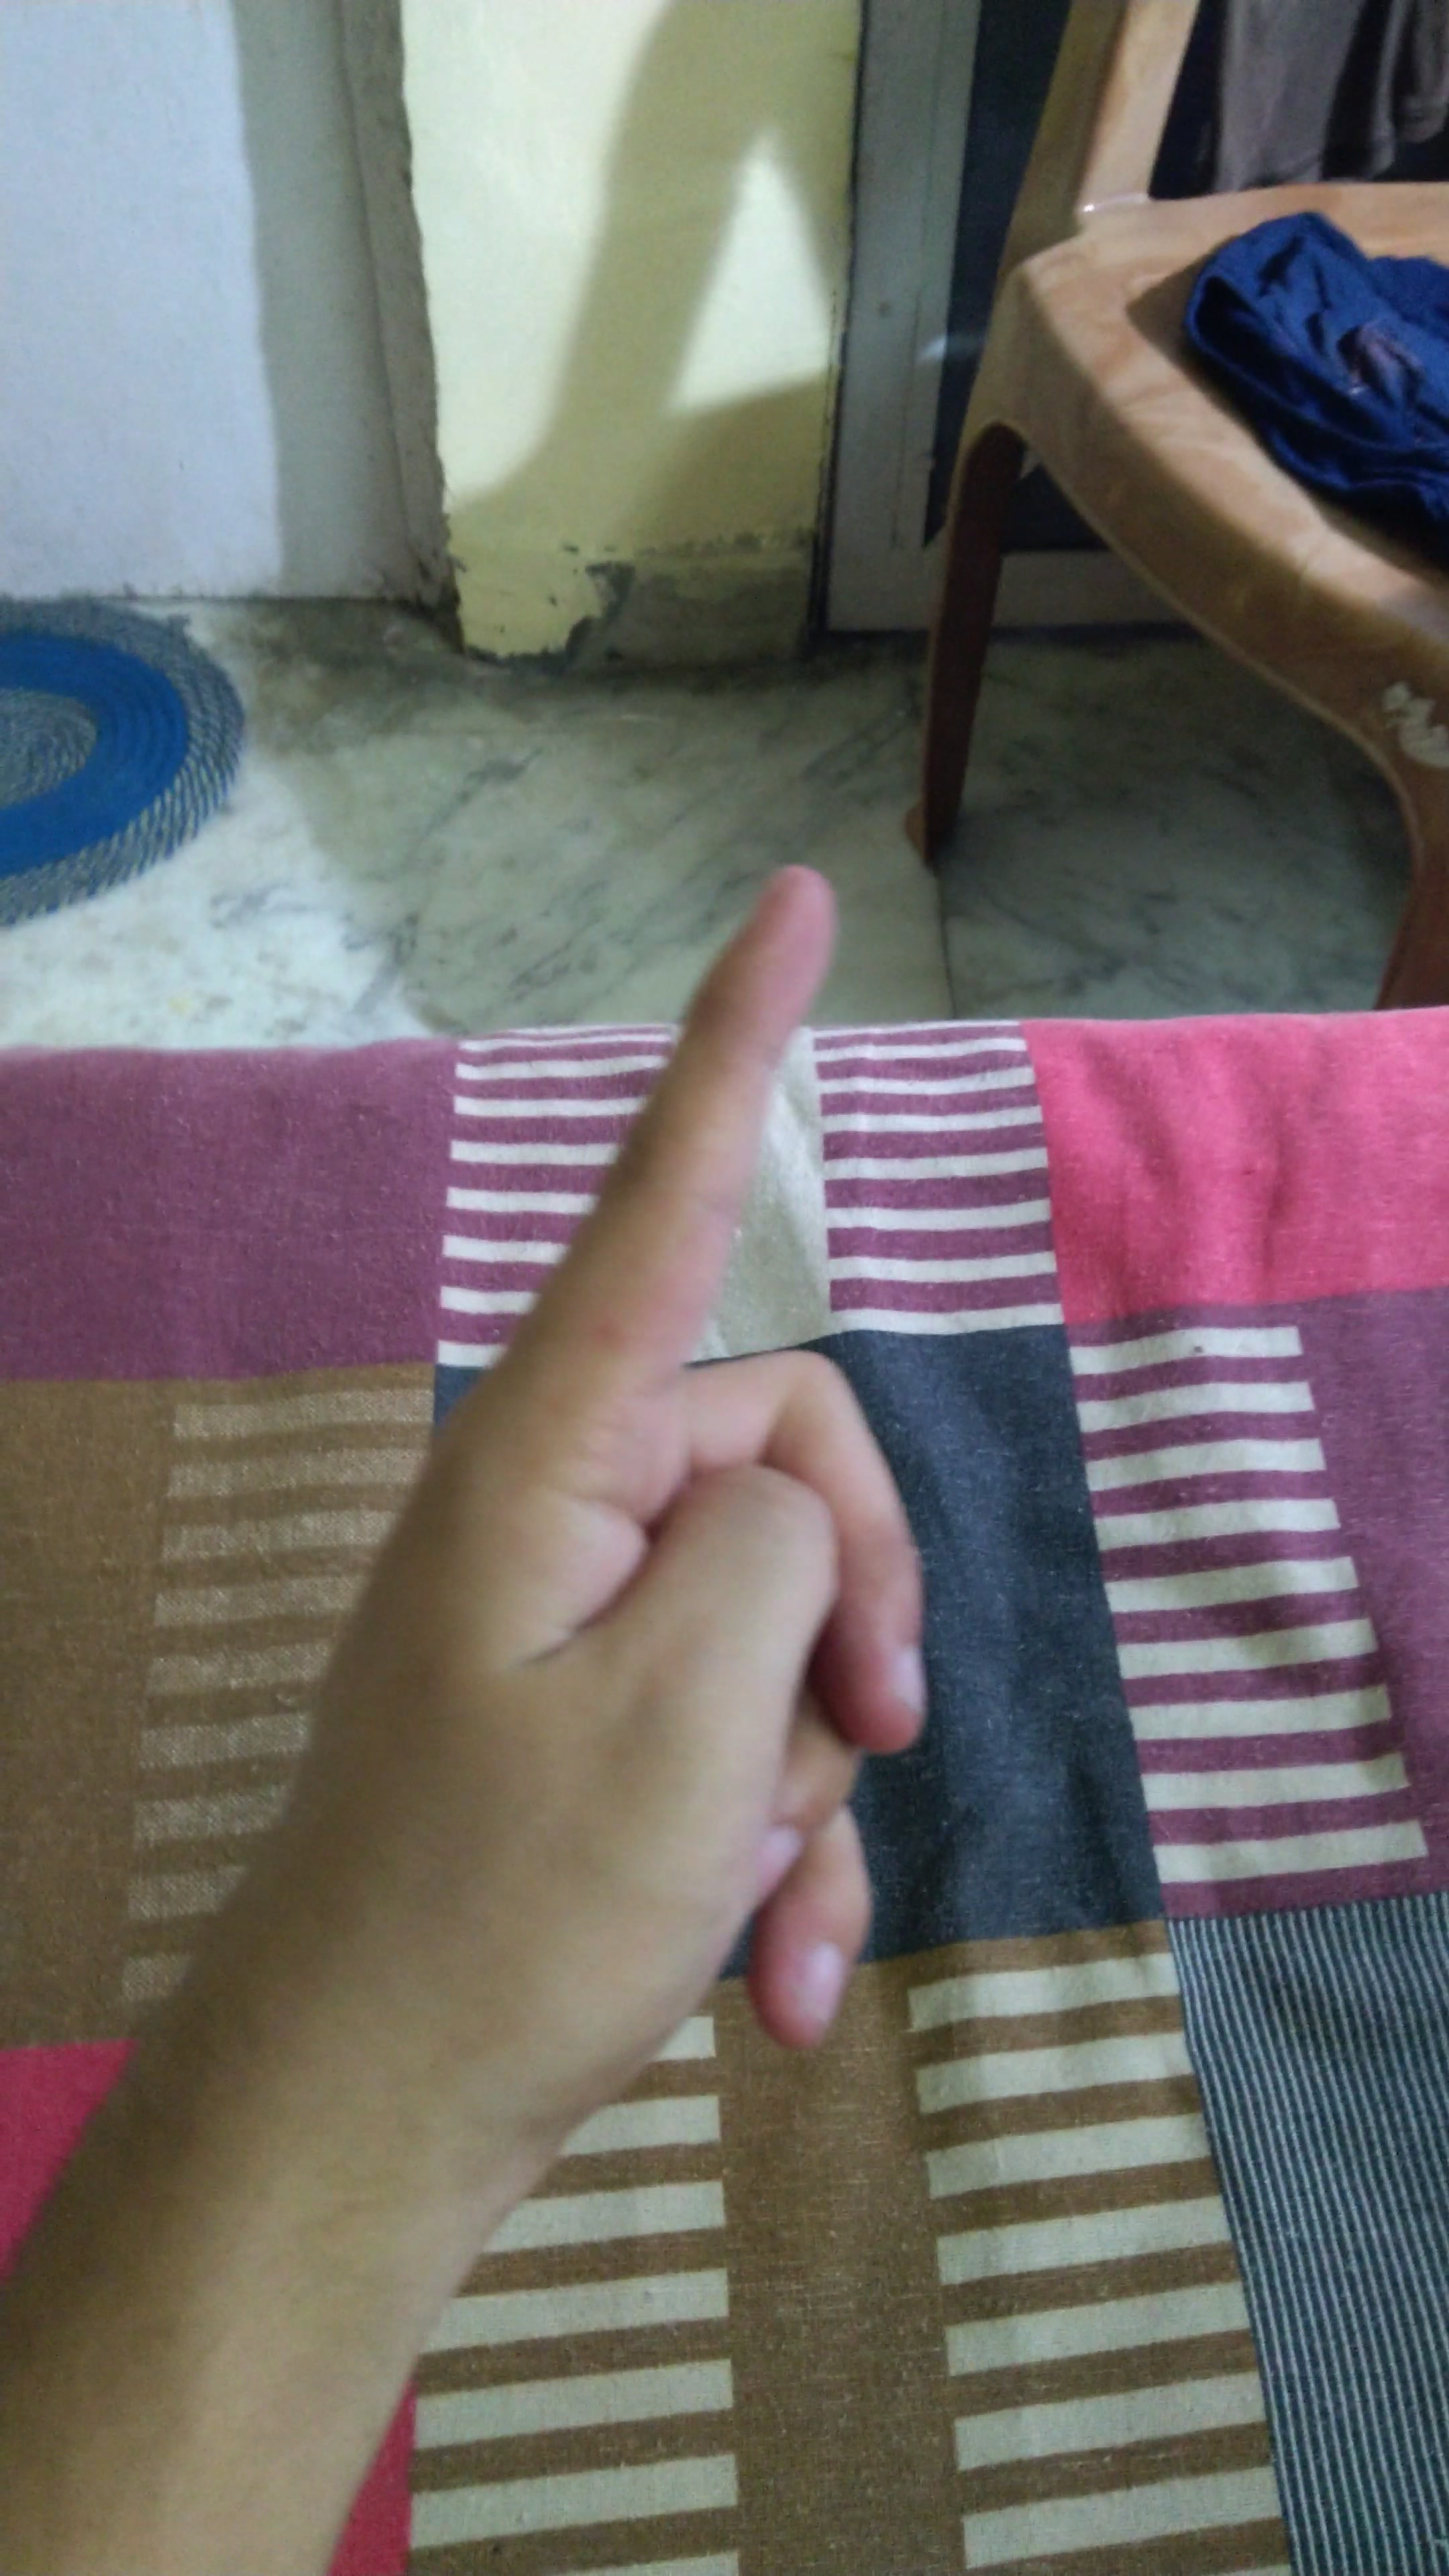hand: (244, 789, 1024, 2176)
